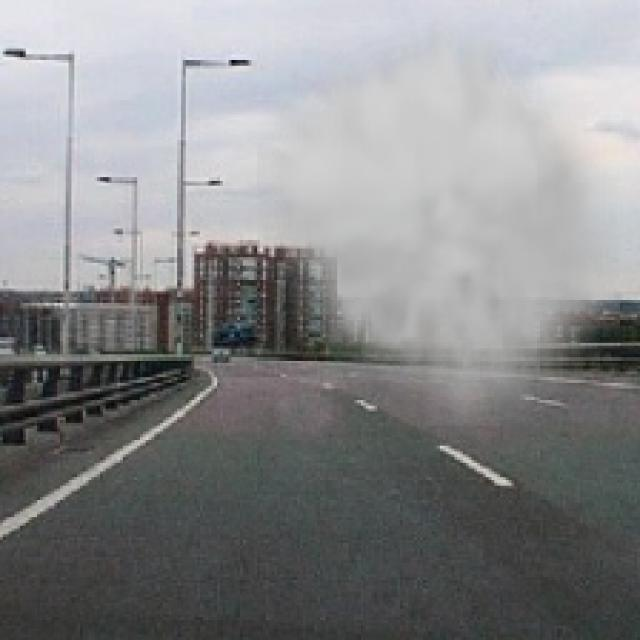smoke: (257, 6, 620, 426)
